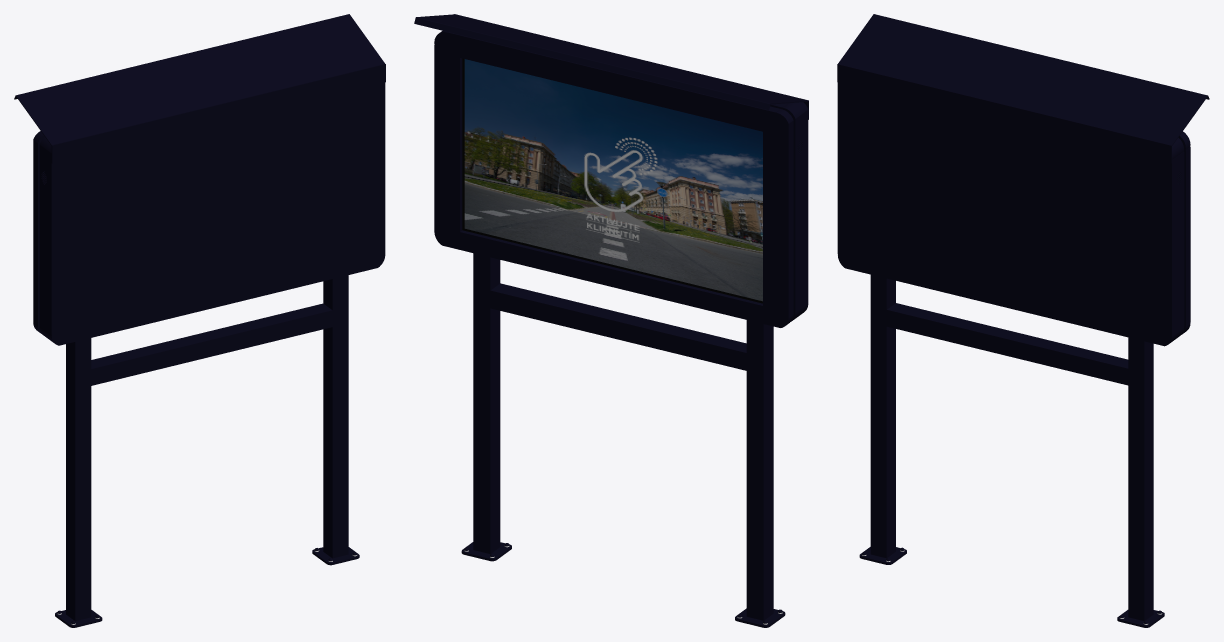
Rendered from eud_stand_2.0_roof.glb.
The picture shows the model from 3 angles, left to right: view 1: azimuth 30°, elevation 25°; view 2: azimuth 150°, elevation 25°; view 3: azimuth 330°, elevation 25°; orthographic projection. The views are drawn at different scales.
Visible parts, largest first — view 1: Object_5; view 2: Object_5, Object_4, Object_2; view 3: Object_5.
Boxes of the visible parts, left/top/right/bottom form: Object_5: left=14, top=14, right=385, bottom=627; Object_5: left=414, top=14, right=808, bottom=627; Object_4: left=464, top=59, right=762, bottom=301; Object_2: left=462, top=58, right=762, bottom=303; Object_5: left=837, top=14, right=1209, bottom=627.
Bounding box in the file's own units: 83 × 122 × 16.41.
5 materials, 1 textured.
